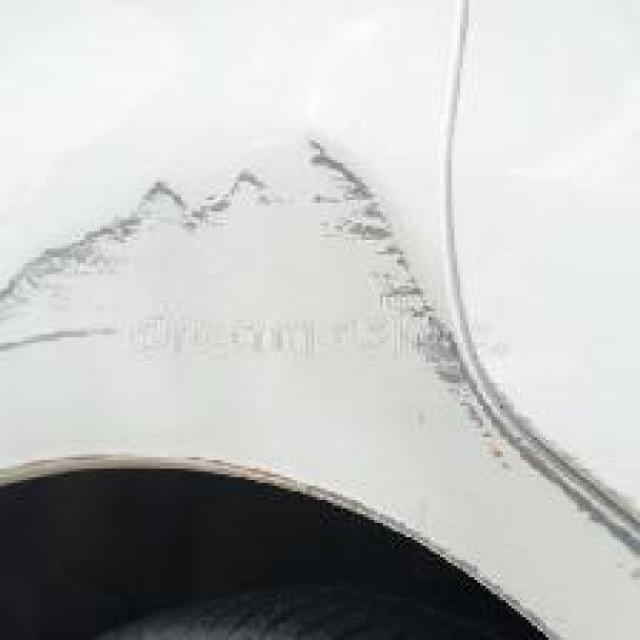damaged: (306, 134, 638, 583), (5, 172, 292, 372)
